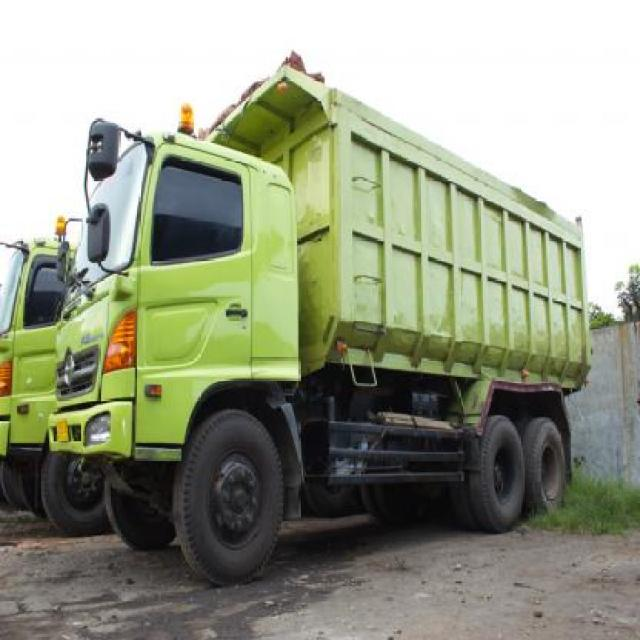truck: (47, 65, 593, 585)
